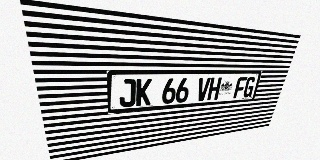6: (161, 78, 177, 104), (175, 78, 191, 103)
F: (233, 77, 247, 98)
G: (242, 77, 256, 98)
H: (207, 77, 222, 100)
J: (119, 79, 136, 107)
K: (136, 79, 152, 106)
V: (195, 78, 211, 101)
